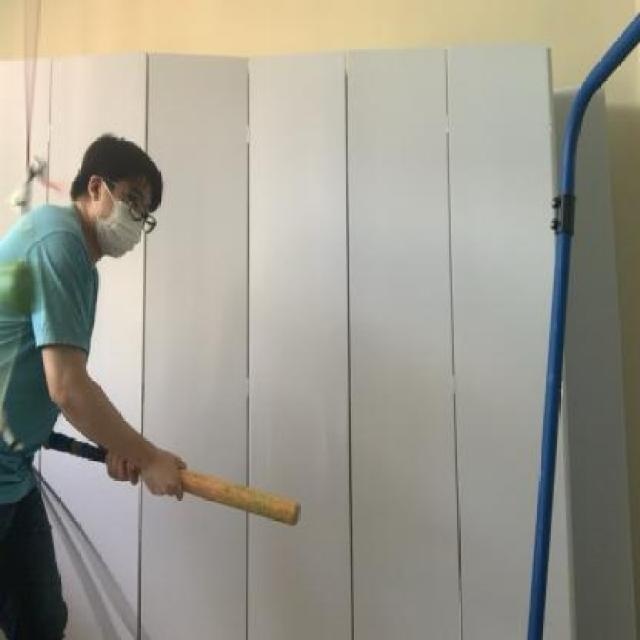baseball: (0, 251, 51, 324)
